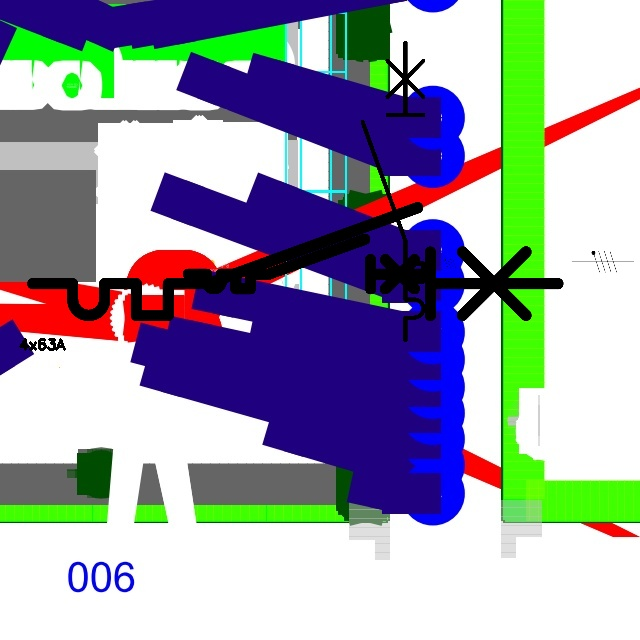interruptor_termomagnetico: (19, 194, 571, 329), (355, 35, 431, 348), (182, 233, 435, 295)
